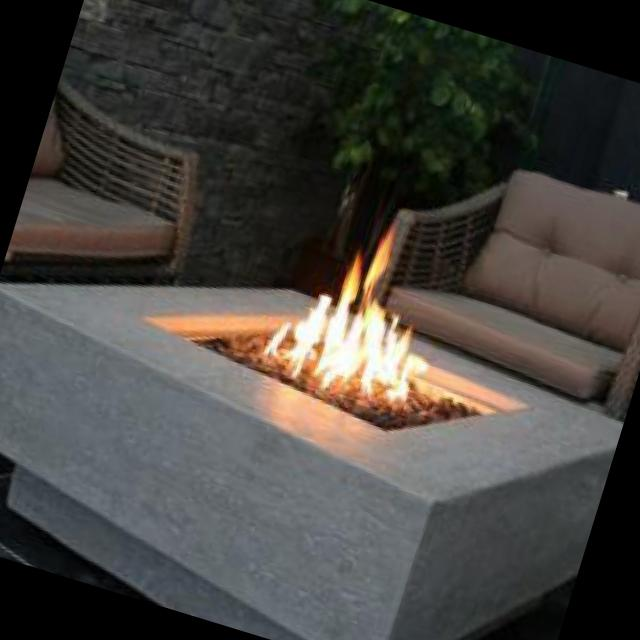fire: (267, 200, 460, 414)
